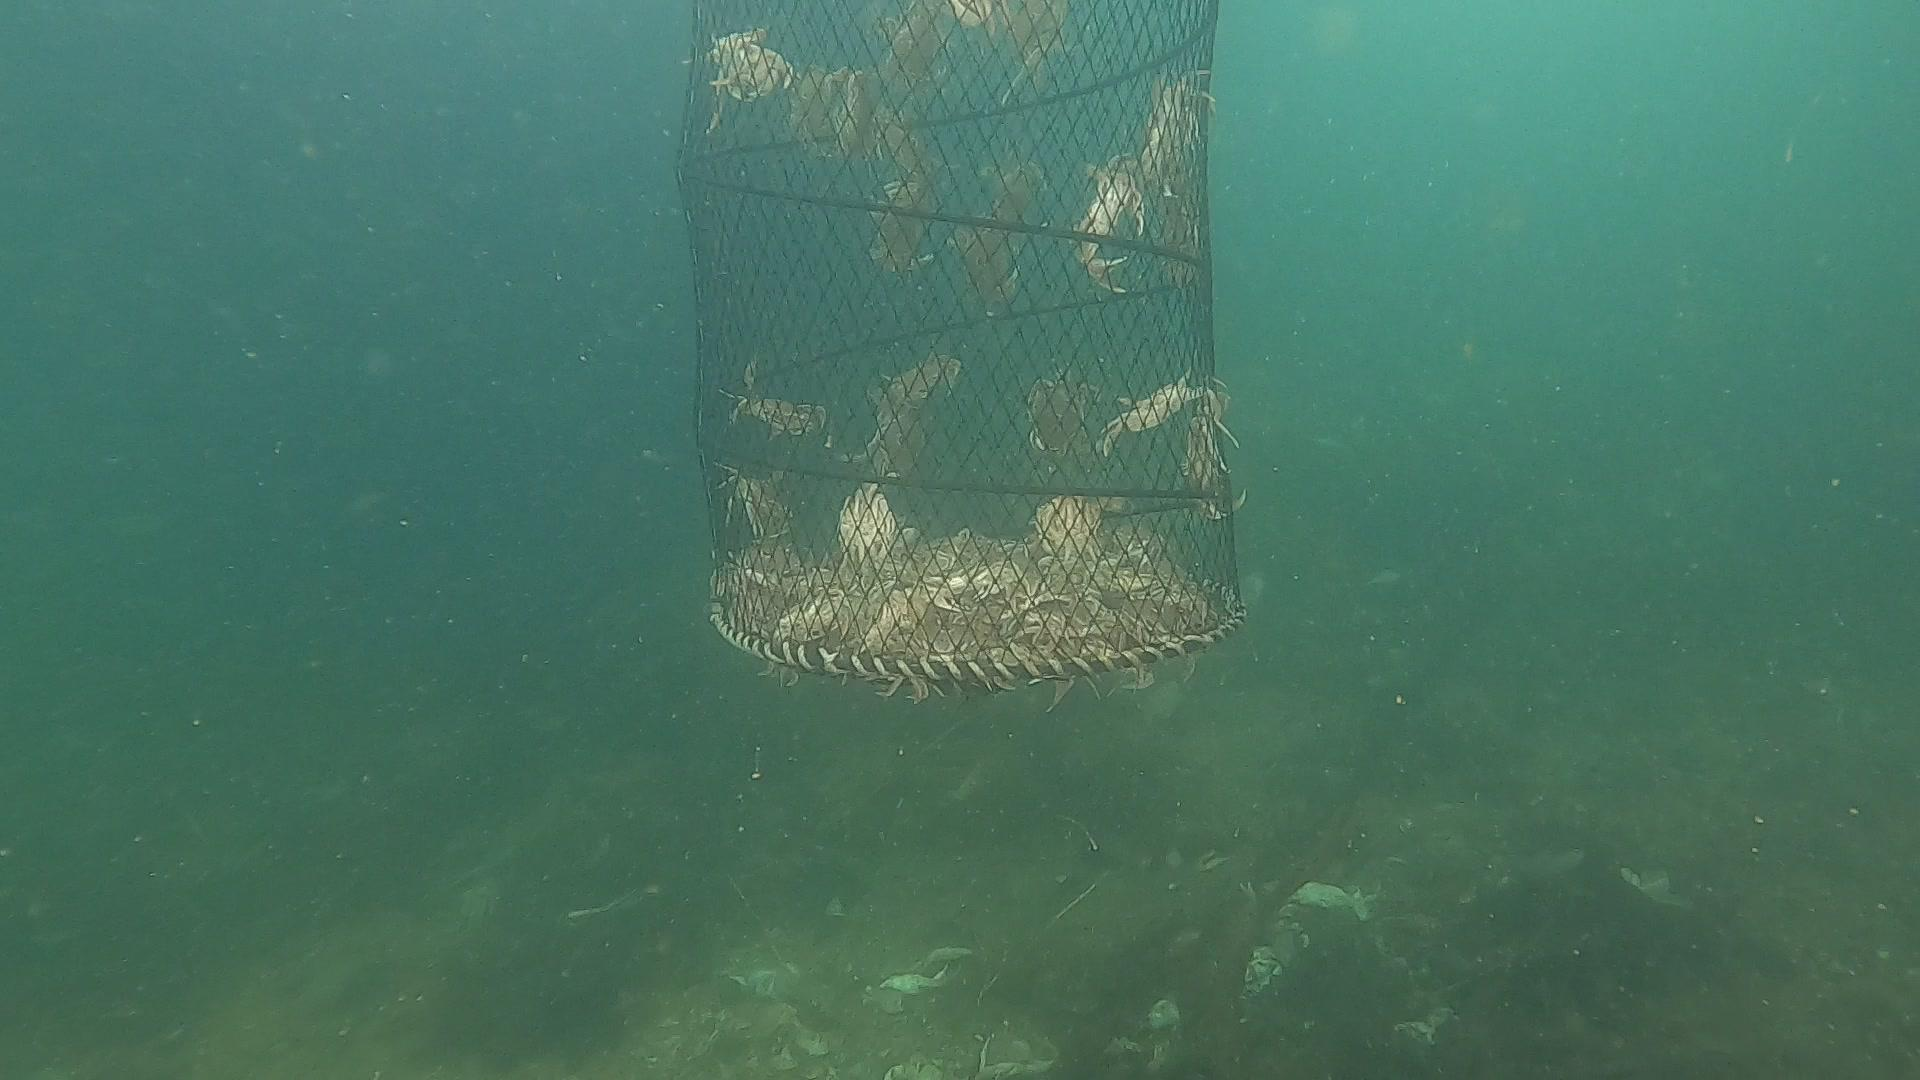spring fish trap: (673, 0, 1258, 683)
